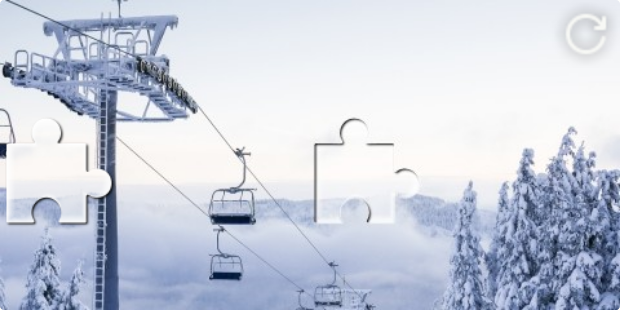target: (314, 118, 420, 224)
